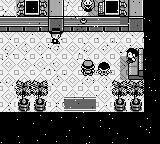main: (80, 60, 95, 76)
no-caminable: (1, 0, 160, 143), (112, 80, 144, 112), (16, 80, 48, 112), (1, 18, 49, 32), (17, 0, 48, 17), (97, 0, 128, 16), (48, 0, 63, 32), (94, 17, 128, 31), (128, 0, 143, 31), (64, 17, 78, 32)
npc: (50, 28, 62, 44), (126, 48, 138, 63), (98, 62, 110, 76), (81, 0, 95, 12)
puerta: (61, 97, 98, 111)
recuperarse: (78, 18, 94, 32)
